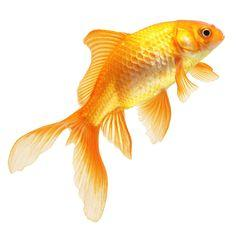goldfish: (62, 12, 229, 161)
